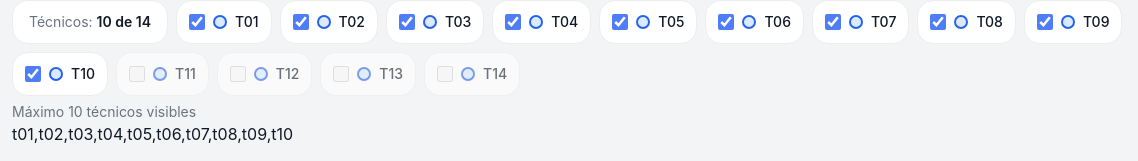
Test: TechnicianSelector con la selección guardada › al desmarcar uno con el tope alcanzado se puede marcar otro
Click the checkbox labelled "T01" at {"x": 197, "y": 22}, box x1=189 y1=14 x2=205 y2=30
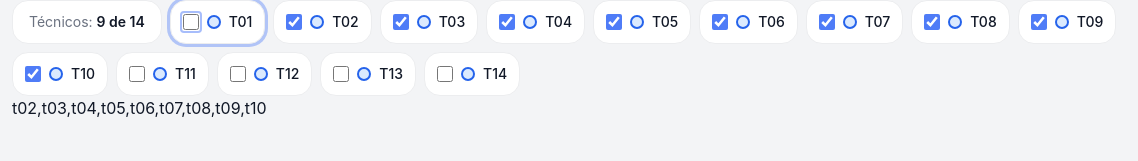
Click the checkbox labelled "T11" at {"x": 137, "y": 74}, box x1=129 y1=66 x2=145 y2=82
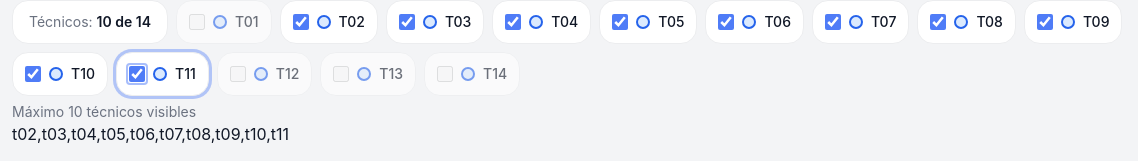
Check: the text named "Seleccionados" reads "t02,t03,t04,t05,t06,t07,t08,t09,t10,t11", box x1=12 y1=124 x2=289 y2=144
